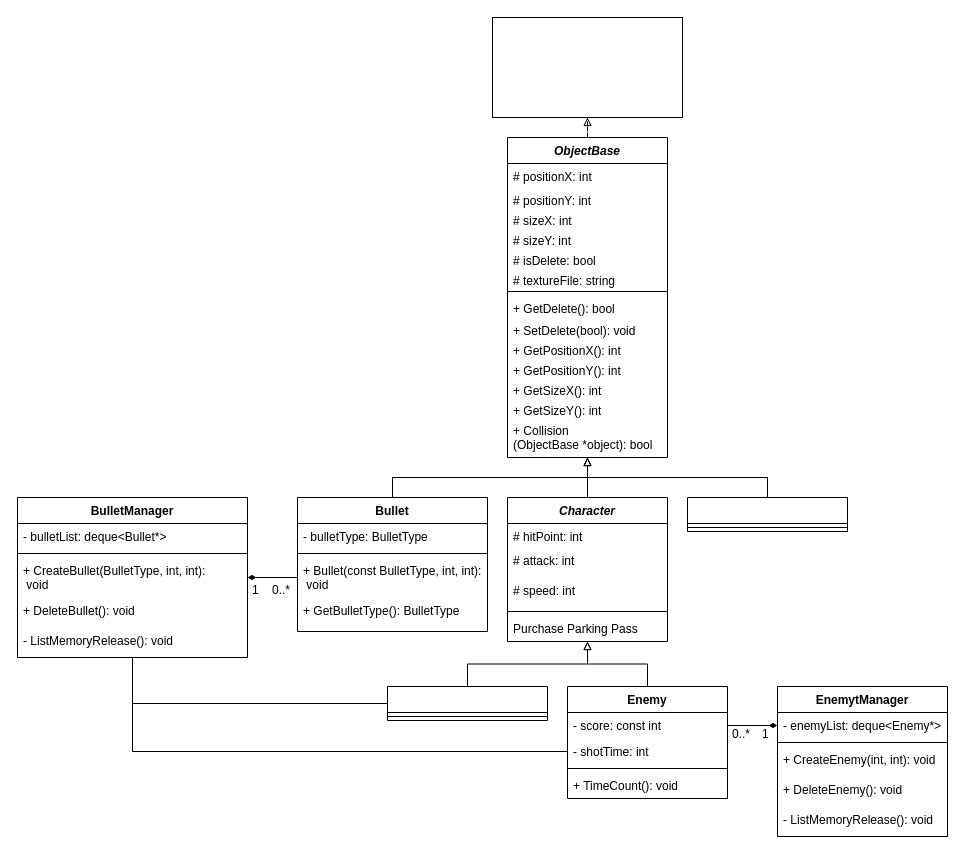
Image size: 965x857. Some labels were removed from this diagram. The centre of each missing label's shape, as x and y in pixels:
"<<Interface>> Task + Initialize(): void + Control(): void + Draw(): void" belongs at [587,67].
"BackGround" belongs at [767,514].
"Player" belongs at [467,703].
